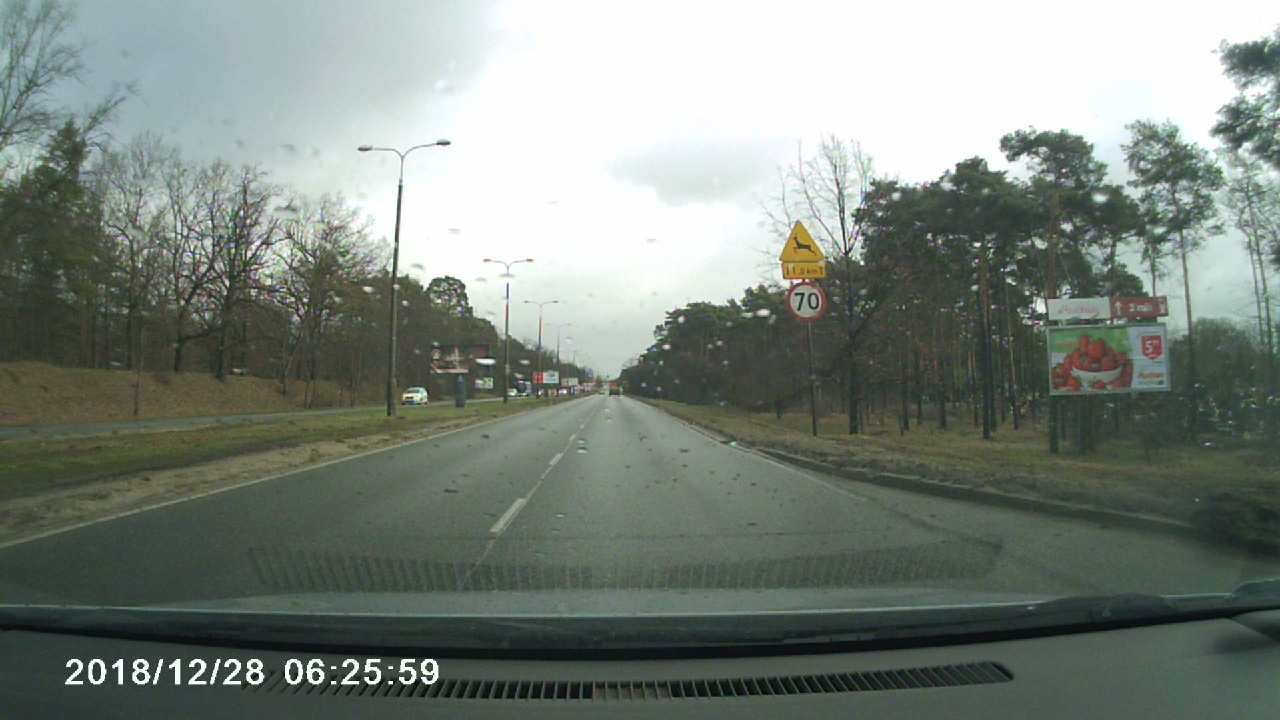B33_70: (787, 281, 829, 318)
